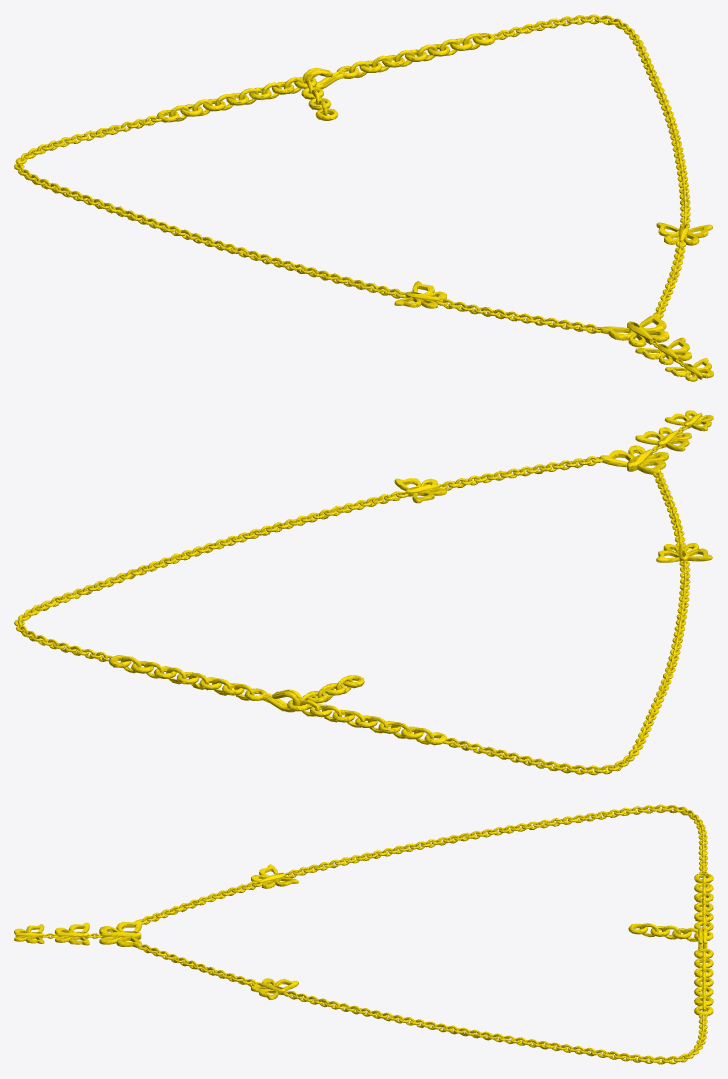
The model's file is GN-SAD0003029.glb.
3 views of the same model, one above another, from view 1: azimuth 30°, elevation 25°; view 2: azimuth 150°, elevation 25°; view 3: azimuth 270°, elevation 25° (orthographic). The views are drawn at different scales.
Parts seen in each view (by area): view 1: highPolyMesh, lowPolyMesh; view 2: highPolyMesh, lowPolyMesh; view 3: highPolyMesh, lowPolyMesh.
Boxes of the visible parts, x1,y1,x2,y2 form: highPolyMesh: (14, 14, 713, 381); lowPolyMesh: (14, 14, 713, 380); highPolyMesh: (14, 410, 713, 775); lowPolyMesh: (14, 410, 713, 775); highPolyMesh: (14, 804, 713, 1064); lowPolyMesh: (14, 804, 713, 1064).
Size of the model in its own units: 0.1213 by 0.00388 by 0.1405.
